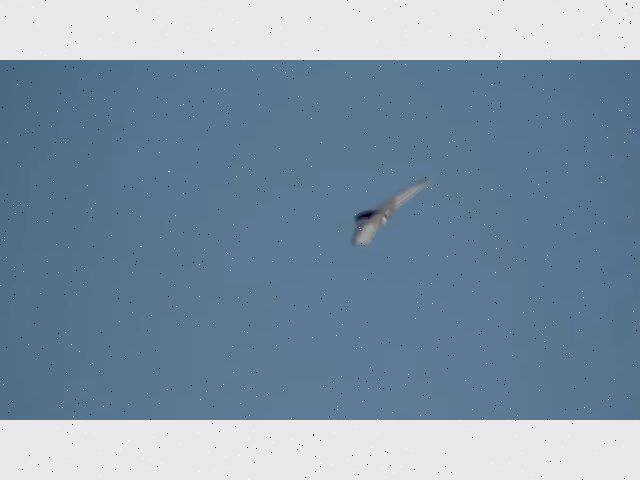Anti-Drone: (352, 177, 428, 247)
